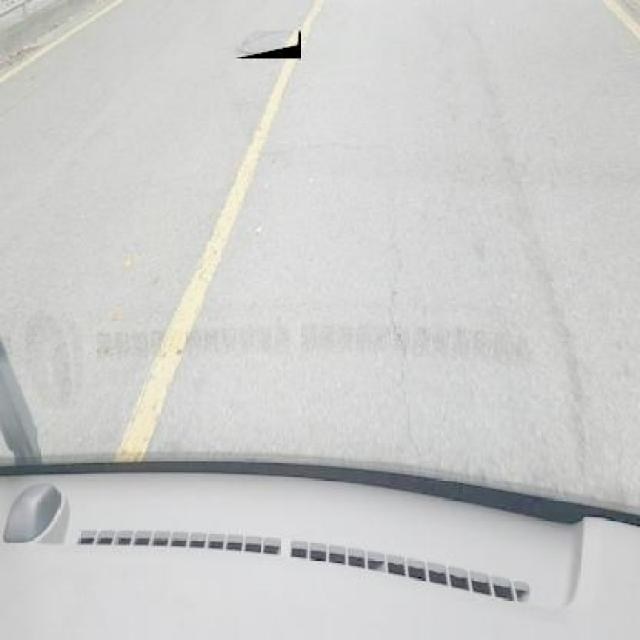Manhole: (238, 31, 303, 58)
